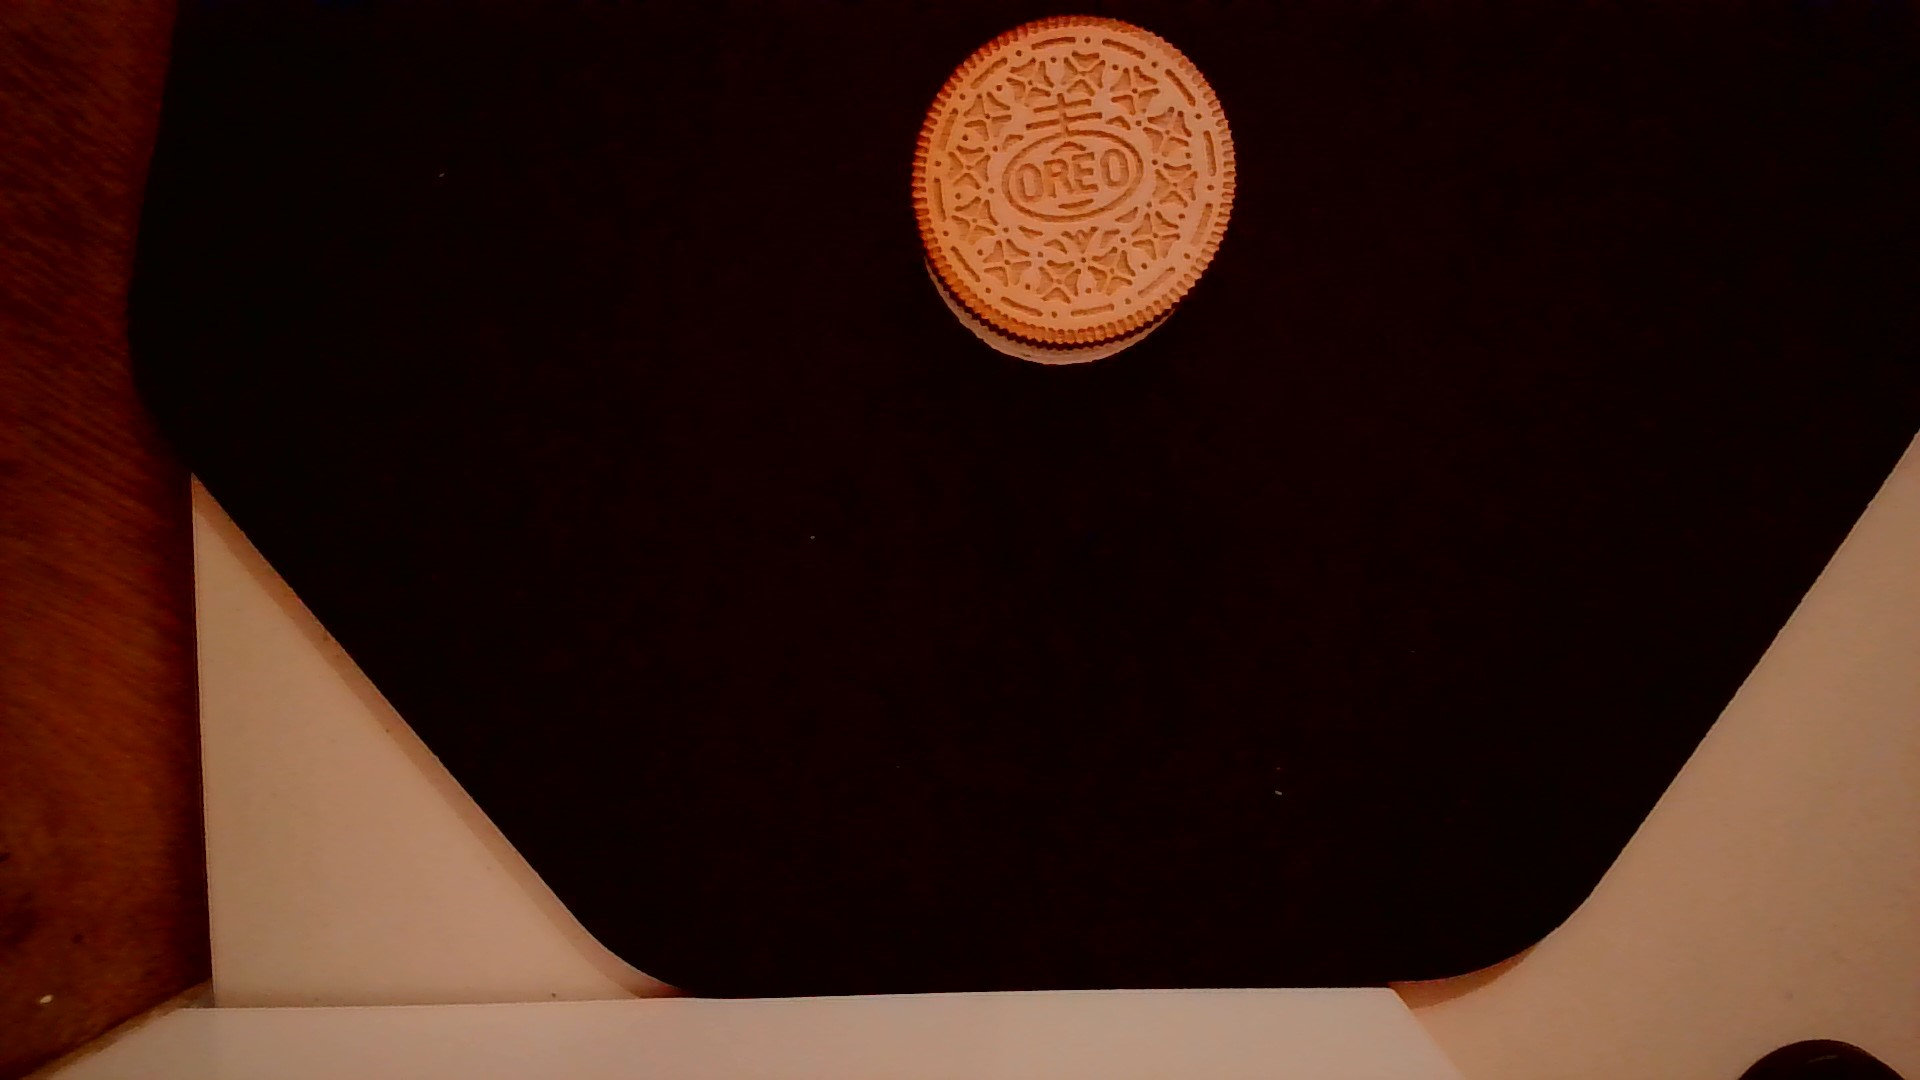Décalé: (919, 255, 1164, 380)
Oréo: (901, 8, 1240, 372)
